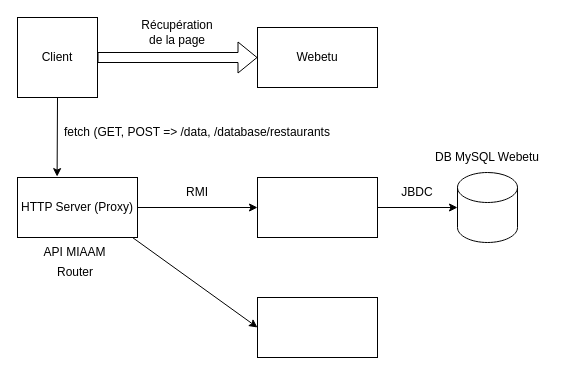
Some shapes in this 565 by 375 pixel diagram are drawn without their labels. The shapes that lost their labels are listed below. From the top down, each one's box as (x1, y1, x2, y2) in pixels, then its label:
(256, 176, 378, 238): ServiceDataBase
(256, 296, 378, 358): ServiceData
